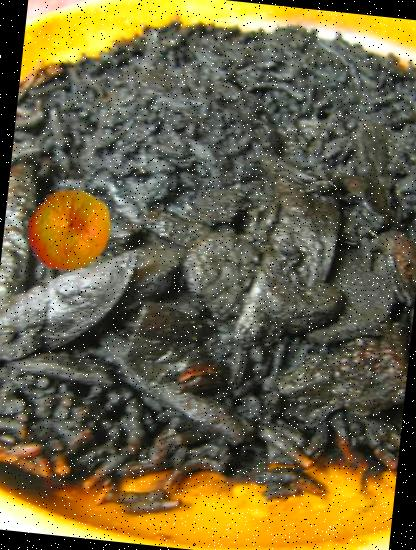Mandarine: (20, 180, 118, 278)
